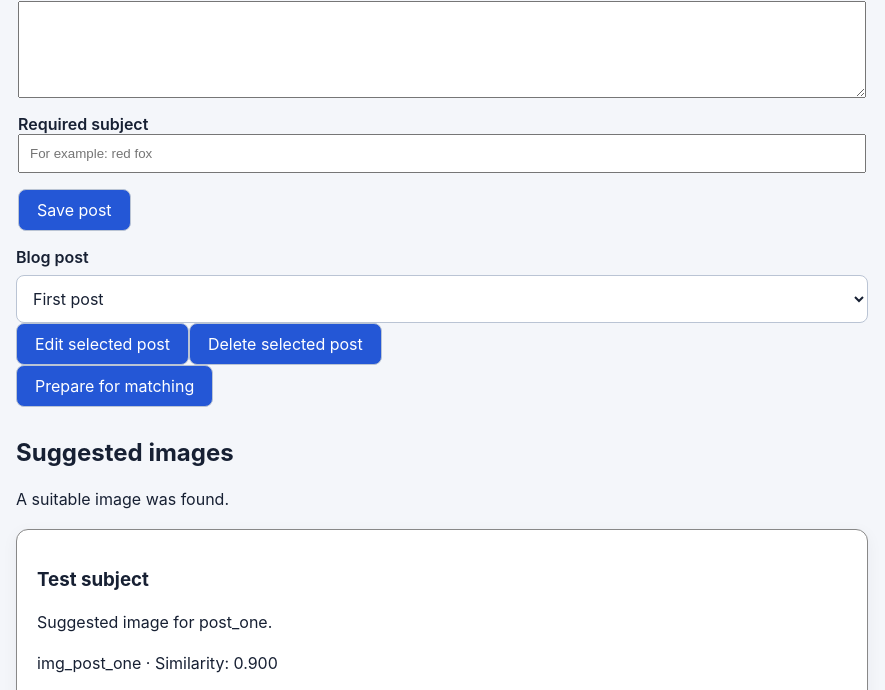
Test: failed deletion preserves the selected post and its results
The width and height of the screenshot is (885, 690).
(page scrolled)
Click the button "Delete selected post" at (285,344), box x1=189 y1=323 x2=382 y2=365
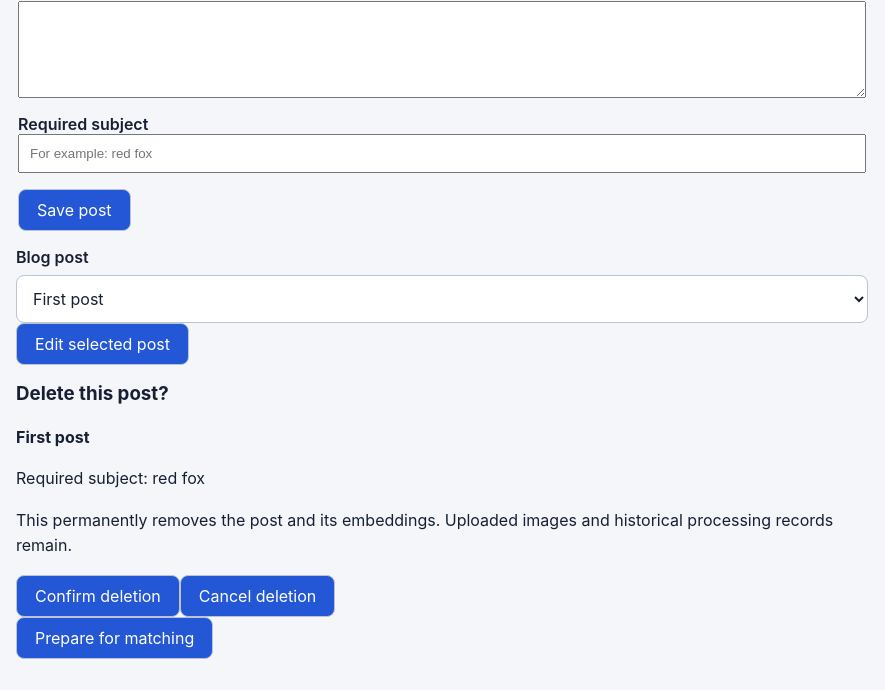
Expected: the text "First post" is shown, x1=16 y1=426 x2=90 y2=446
Click the button "Confirm deletion" at (98,596), box x1=16 y1=575 x2=180 y2=617
(page scrolled)
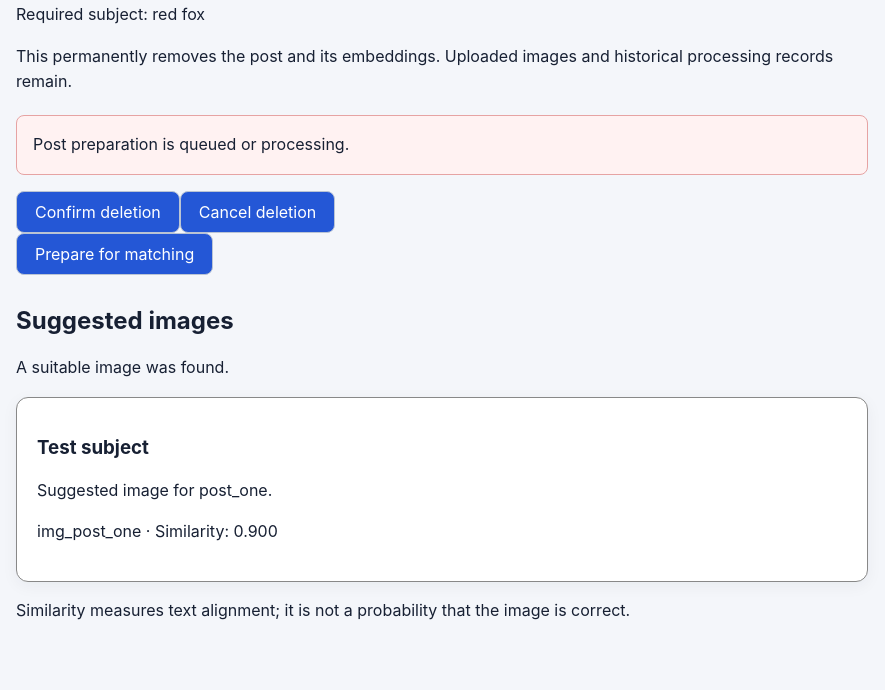
Expected: the message reads "Post preparation is queued or processing.", x1=33 y1=134 x2=349 y2=154
